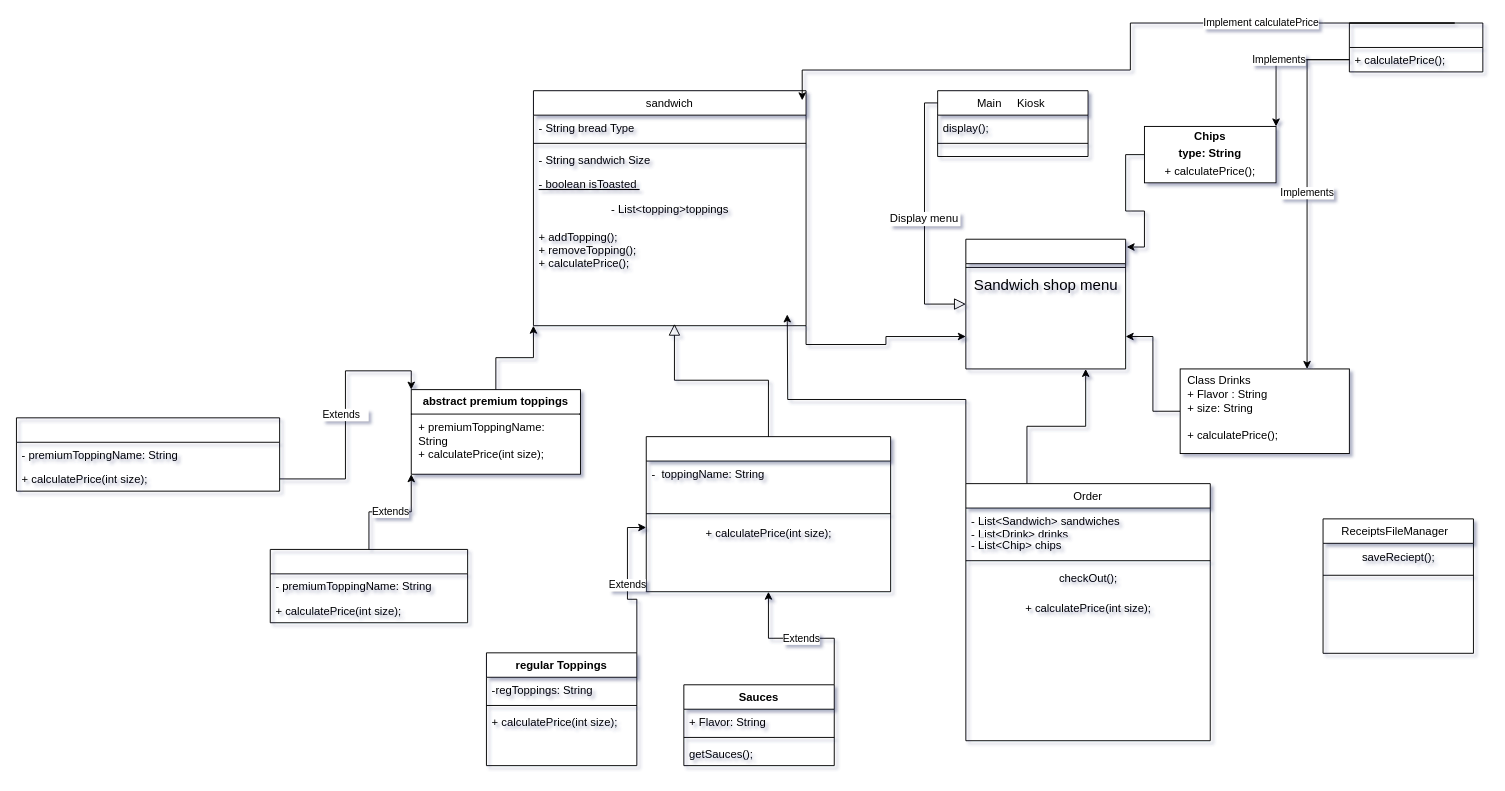
This 1505x791 diagram has some shape labels left out. The box of each missing label's shape, as (x1, y1, x2, y2) in pixels:
abstract toppings: (645, 436, 891, 592)
child cheese: (269, 548, 468, 623)
child meat: (16, 417, 280, 491)
IPricable: (1348, 22, 1483, 72)
User Interface: (965, 238, 1126, 369)
